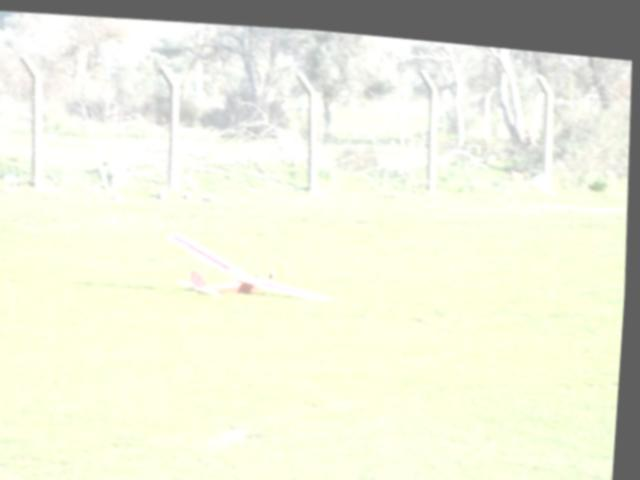iha: (158, 215, 344, 307)
